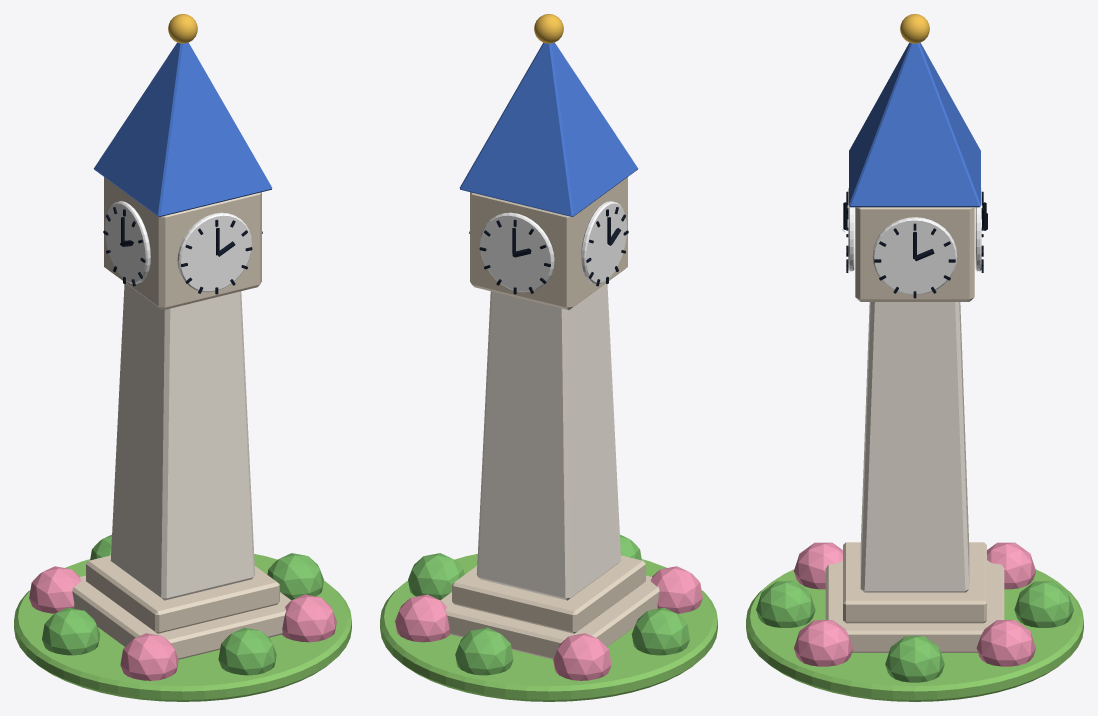
The model's file is town-clocktower.glb.
3 renders of one model, left to right at view 1: azimuth 30°, elevation 25°; view 2: azimuth 150°, elevation 25°; view 3: azimuth 270°, elevation 25°, orthographic.
Visible parts, largest first — view 1: BODY_ClockTower; view 2: BODY_ClockTower; view 3: BODY_ClockTower.
Boxes of the visible parts, left/top/right/bottom form: BODY_ClockTower: left=14, top=14, right=351, bottom=701; BODY_ClockTower: left=380, top=14, right=717, bottom=701; BODY_ClockTower: left=746, top=14, right=1083, bottom=701.
Size of the model in its own units: 6.8 by 13.8 by 6.8.
